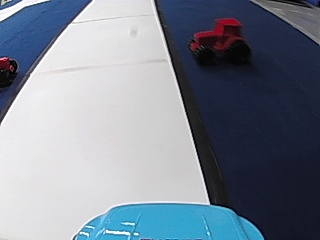tractor: (187, 16, 250, 66), (0, 54, 19, 87)
